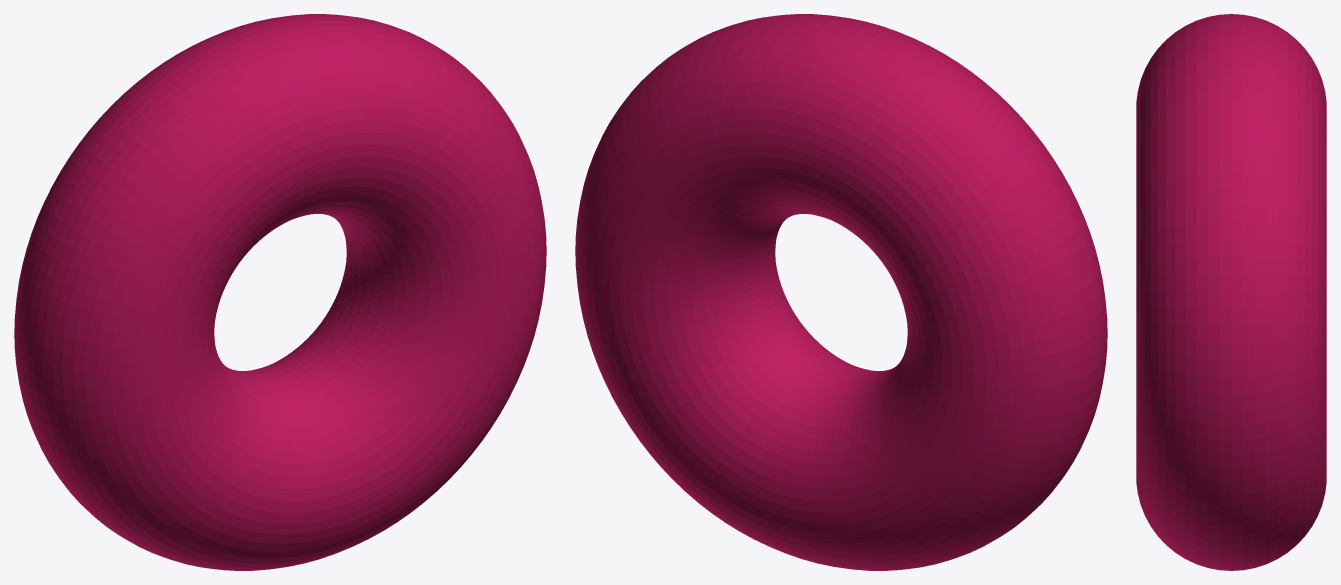
The picture shows the model from 3 angles, left to right: view 1: azimuth 30°, elevation 25°; view 2: azimuth 150°, elevation 25°; view 3: azimuth 270°, elevation 25°; orthographic projection. The views are drawn at different scales.
Visible parts, largest first — view 1: world; view 2: world; view 3: world.
Boxes of the visible parts, x1,y1,x2,y2 form: world: [14, 14, 546, 570]; world: [575, 14, 1107, 570]; world: [1136, 14, 1326, 570].
Bounding box in the file's own units: 28.4 × 28.4 × 9.71.
